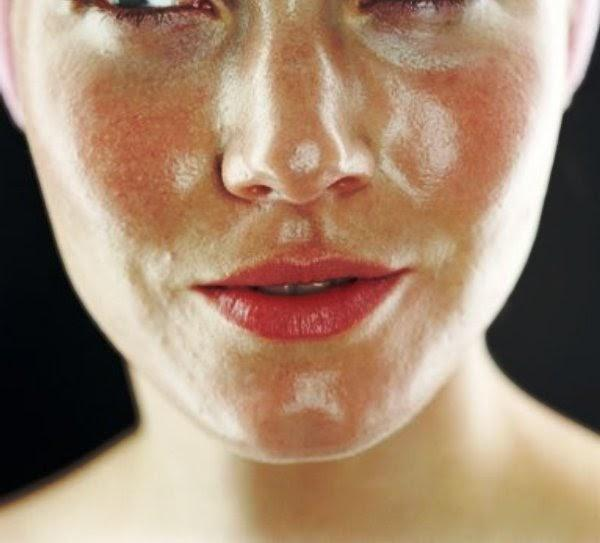Oily-Skin: (378, 70, 461, 211), (312, 46, 375, 182), (214, 46, 272, 188), (344, 11, 496, 65), (285, 360, 348, 428), (166, 147, 210, 201), (289, 140, 318, 178)
